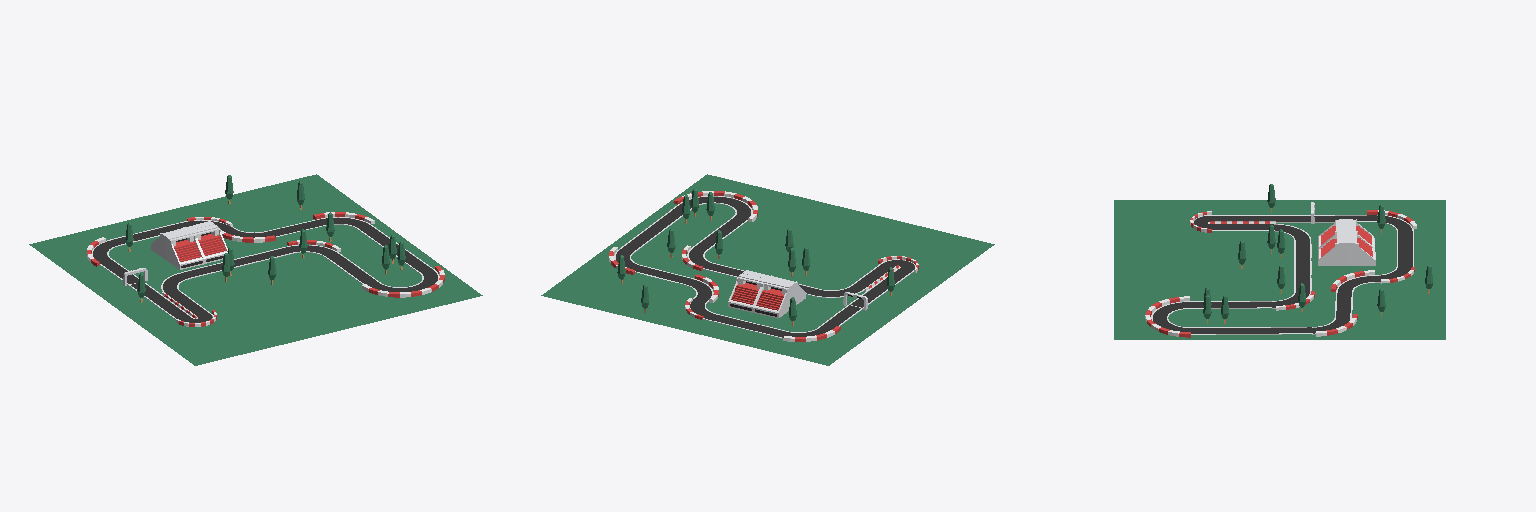
File: track2d.obj
3 renders of one model, left to right at view 1: azimuth 30°, elevation 25°; view 2: azimuth 150°, elevation 25°; view 3: azimuth 270°, elevation 25°, orthographic.
Visible parts, largest first — view 1: grass, grandStand, roadCornerSmallWall.033_roadCornerSmallWall.105; view 2: grass, grandStand.001, roadCornerSmallWall.033_roadCornerSmallWall.105; view 3: grass, grandStand, grandStand.001, roadCornerSmallWall.033_roadCornerSmallWall.105.
Part boxes in pixels (x1,y1,x2,y2): grass: (29,174,482,365); grandStand: (166,224,227,269); roadCornerSmallWall.033_roadCornerSmallWall.105: (362,283,421,297); grass: (541,174,994,365); grandStand.001: (728,273,791,318); roadCornerSmallWall.033_roadCornerSmallWall.105: (724,194,757,221); grass: (1114,200,1445,339); grandStand: (1318,219,1346,265); grandStand.001: (1346,219,1375,265); roadCornerSmallWall.033_roadCornerSmallWall.105: (1146,296,1190,317).
Bounding box in the file's own units: 16.05 × 1.51 × 16.05.